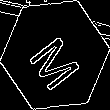M_NE: (23, 22, 87, 88)
